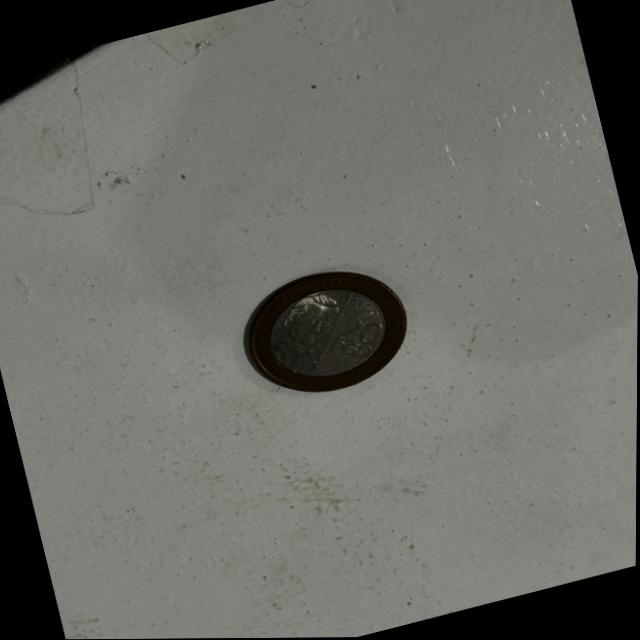20_New_Front: (315, 310, 389, 372)
